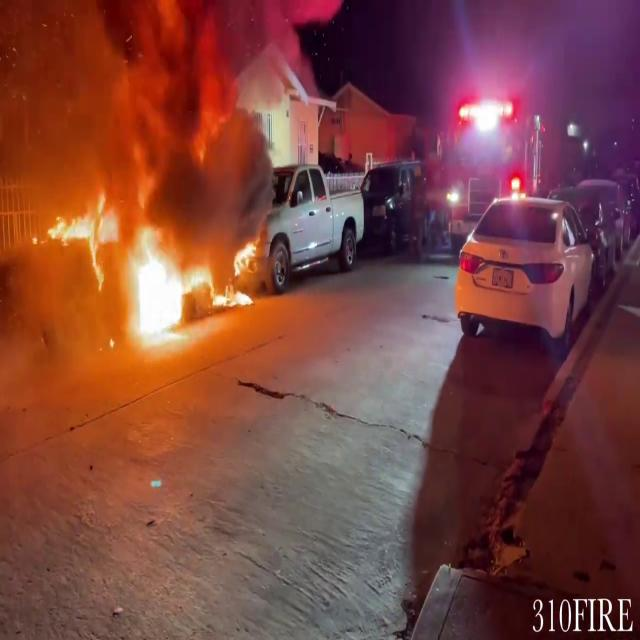Fire: (54, 193, 262, 351)
Smoke: (85, 0, 272, 215)
